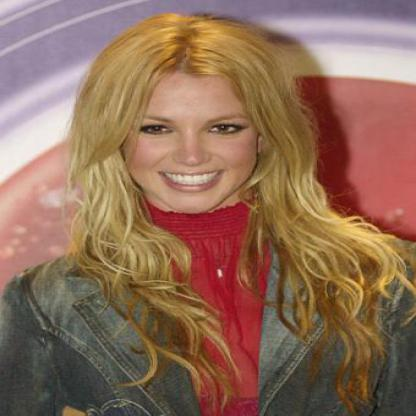face: (115, 31, 266, 215)
